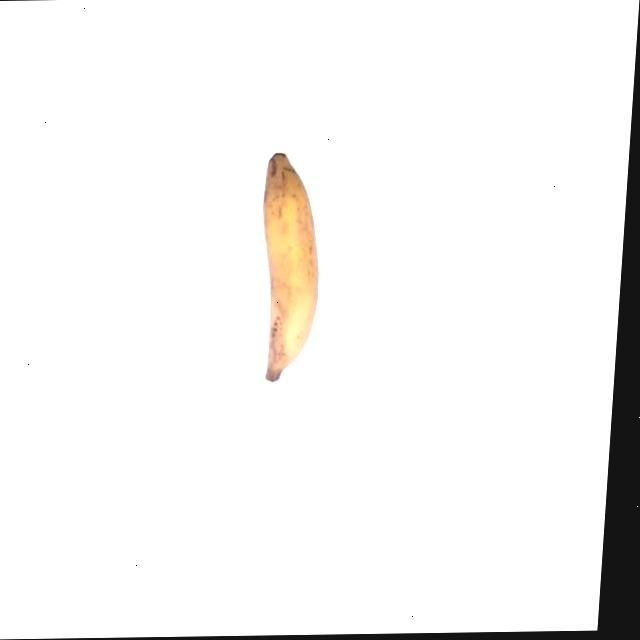banana: (245, 145, 332, 389)
